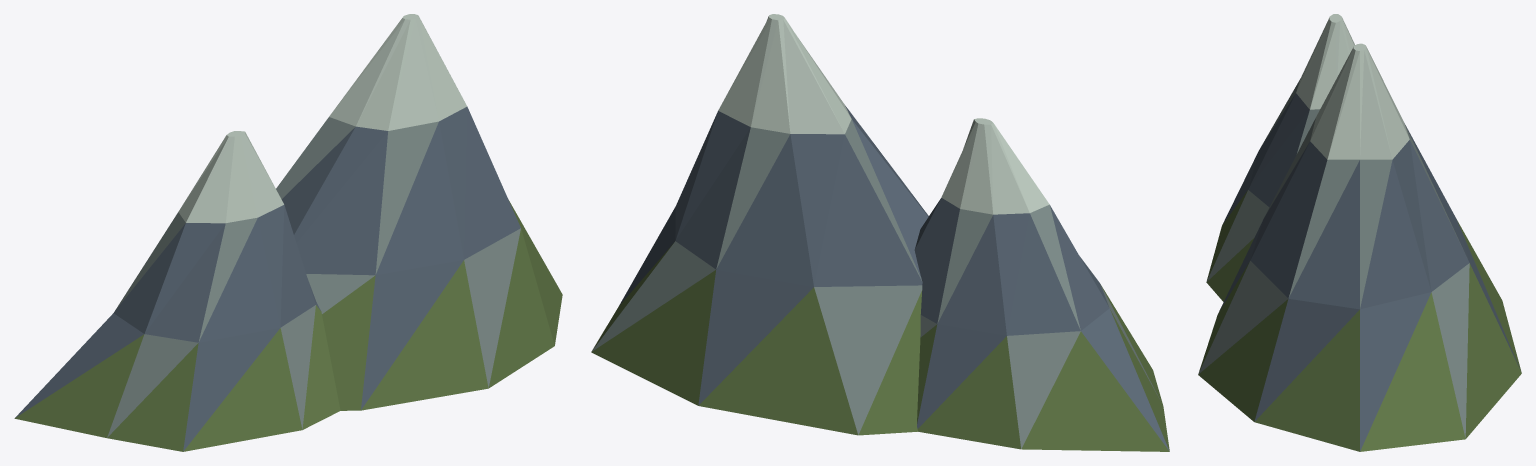
The model's file is twin_summit.glb.
3 views of the same model, side by side, from view 1: azimuth 30°, elevation 25°; view 2: azimuth 150°, elevation 25°; view 3: azimuth 270°, elevation 25° (orthographic). The views are drawn at different scales.
Visible parts, largest first — view 1: twin_summit; view 2: twin_summit; view 3: twin_summit.
Boxes of the visible parts, bbox=[...] form: twin_summit: bbox=[14, 14, 562, 451]; twin_summit: bbox=[591, 14, 1169, 451]; twin_summit: bbox=[1198, 14, 1521, 451].
Size of the model in its own units: 26.84 by 15 by 13.44.
